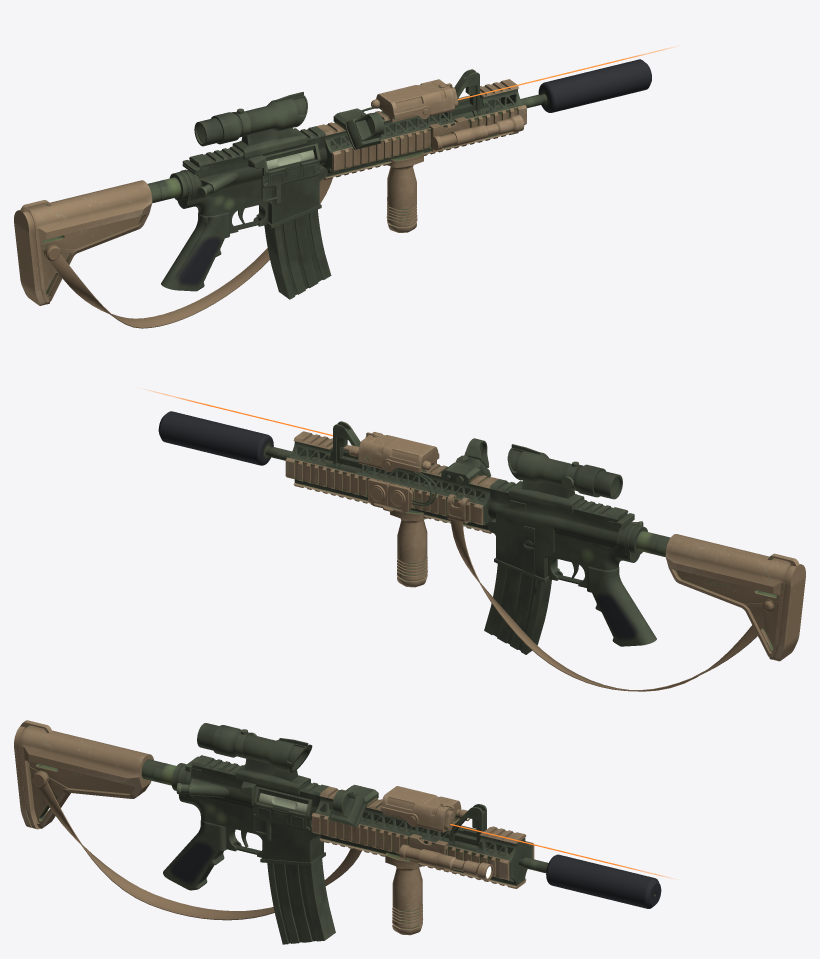
Rendered from Mid_ScoutCarbine.glb.
The picture shows the model from 3 angles, top to bottom: view 1: azimuth 30°, elevation 25°; view 2: azimuth 150°, elevation 25°; view 3: azimuth 330°, elevation 25°; orthographic projection.
Parts seen in each view (by area): view 1: wrap; view 2: wrap; view 3: wrap.
Part boxes in pixels (bbox=[...]): wrap: bbox=[14, 47, 673, 328]; wrap: bbox=[148, 390, 805, 691]; wrap: bbox=[14, 720, 672, 944].
Bounding box in the file's own units: 16.64 × 4.23 × 1.56.
8 materials, 5 textured.
